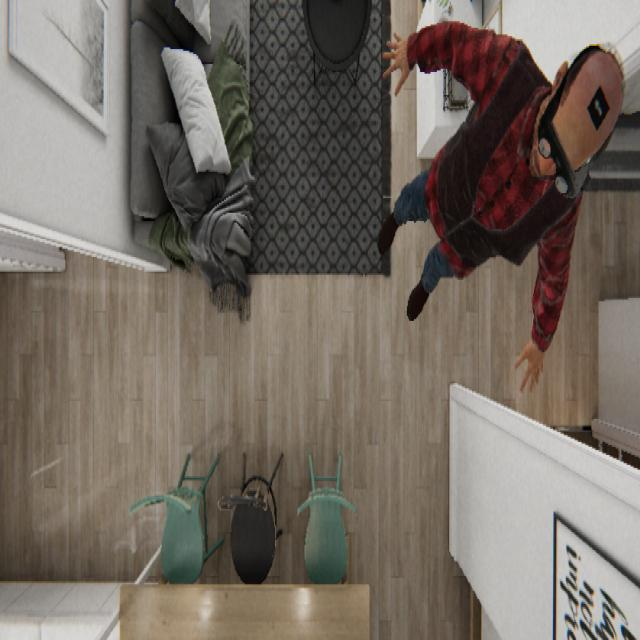Human: (377, 18, 626, 393)
UnityLogo: (586, 82, 610, 131)
